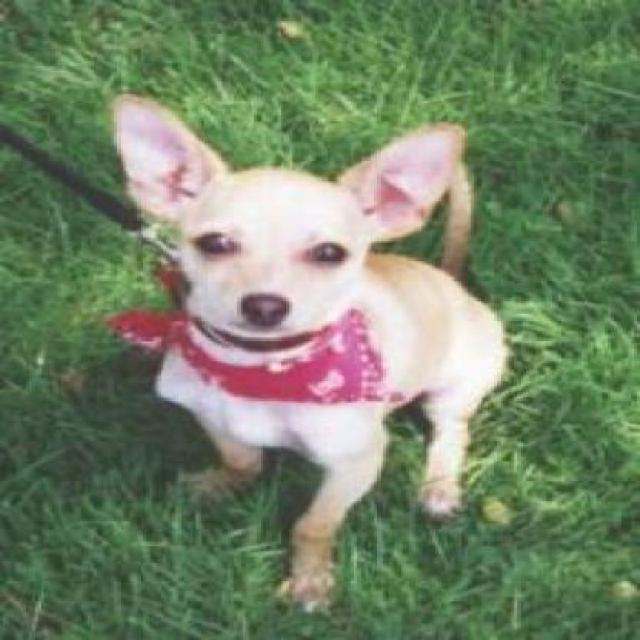Dog: (111, 89, 512, 608)
